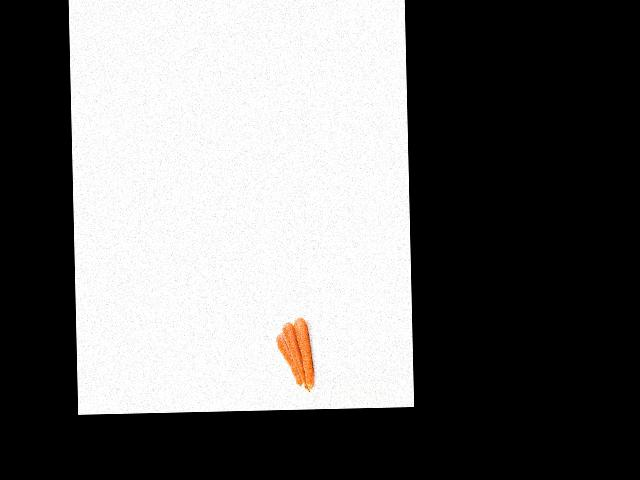carrot: (293, 314, 318, 389)
